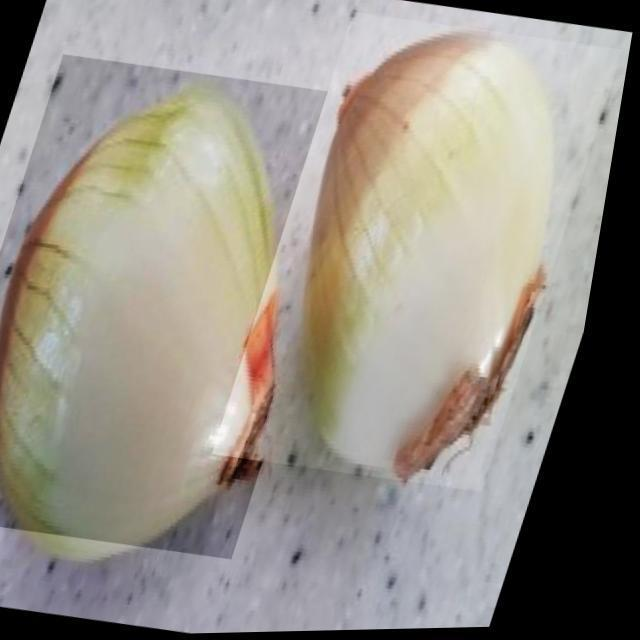Onion: (0, 49, 389, 567), (222, 9, 630, 500)
